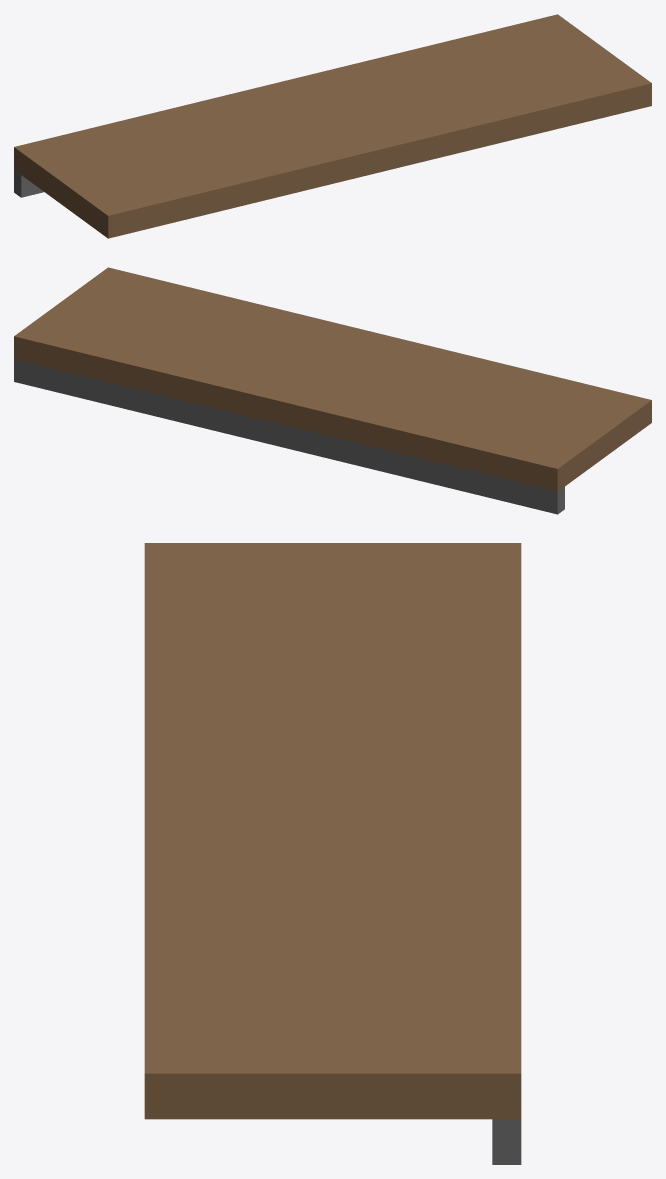
Rendered from WallShelf.fbx.
3 views of the same model, one above another, from view 1: azimuth 30°, elevation 25°; view 2: azimuth 150°, elevation 25°; view 3: azimuth 270°, elevation 25° (orthographic). The views are drawn at different scales.
Visible parts, largest first — view 1: Shelf_Wall_2; view 2: Shelf_Wall_2; view 3: Shelf_Wall_2.
Boxes of the visible parts, x1=… form: Shelf_Wall_2: x1=14, y1=14, x2=651, y2=238; Shelf_Wall_2: x1=14, y1=267, x2=651, y2=514; Shelf_Wall_2: x1=144, y1=543, x2=521, y2=1164.
Bounding box in the file's own units: 50 × 4 × 15.
